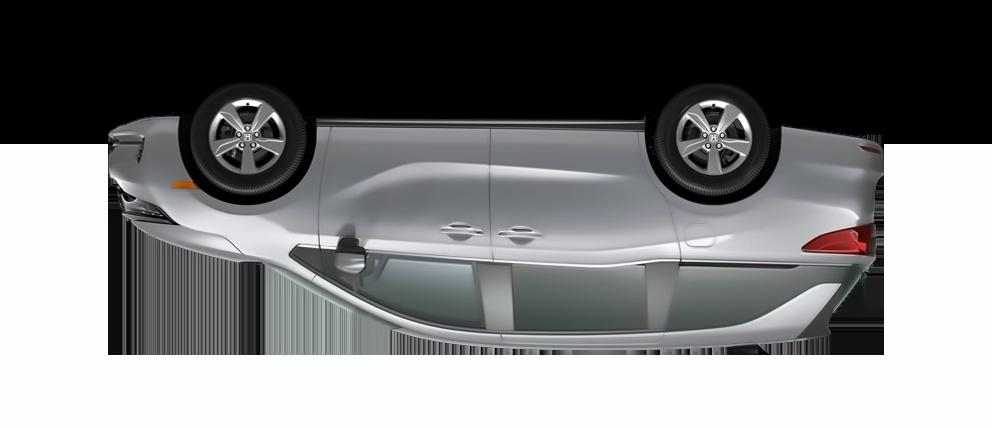Car hood: (128, 222, 250, 269)
Driver-s door - -F-R-: (317, 118, 493, 341)
Fender - -F-R-: (186, 119, 338, 280)
Fender - -R-R-: (632, 111, 797, 270)
Front bumper: (99, 109, 186, 164)
Headlight - -R-: (111, 186, 177, 230)
Passenger-s door - -R-R-: (492, 115, 679, 348)
Rear bumper: (780, 119, 886, 218)
Rear light - -R-: (793, 218, 884, 267)
Side bumper - -R-: (312, 109, 657, 142)
Side mirror - -R-: (322, 236, 379, 284)
